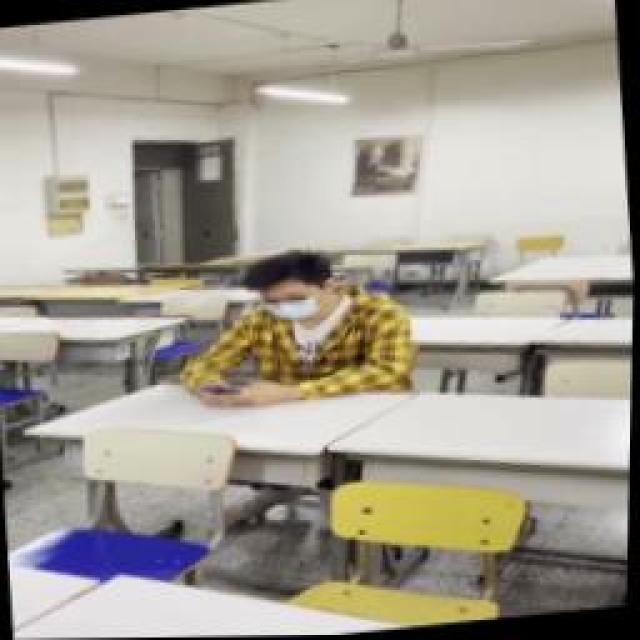phone: (175, 242, 420, 412)
